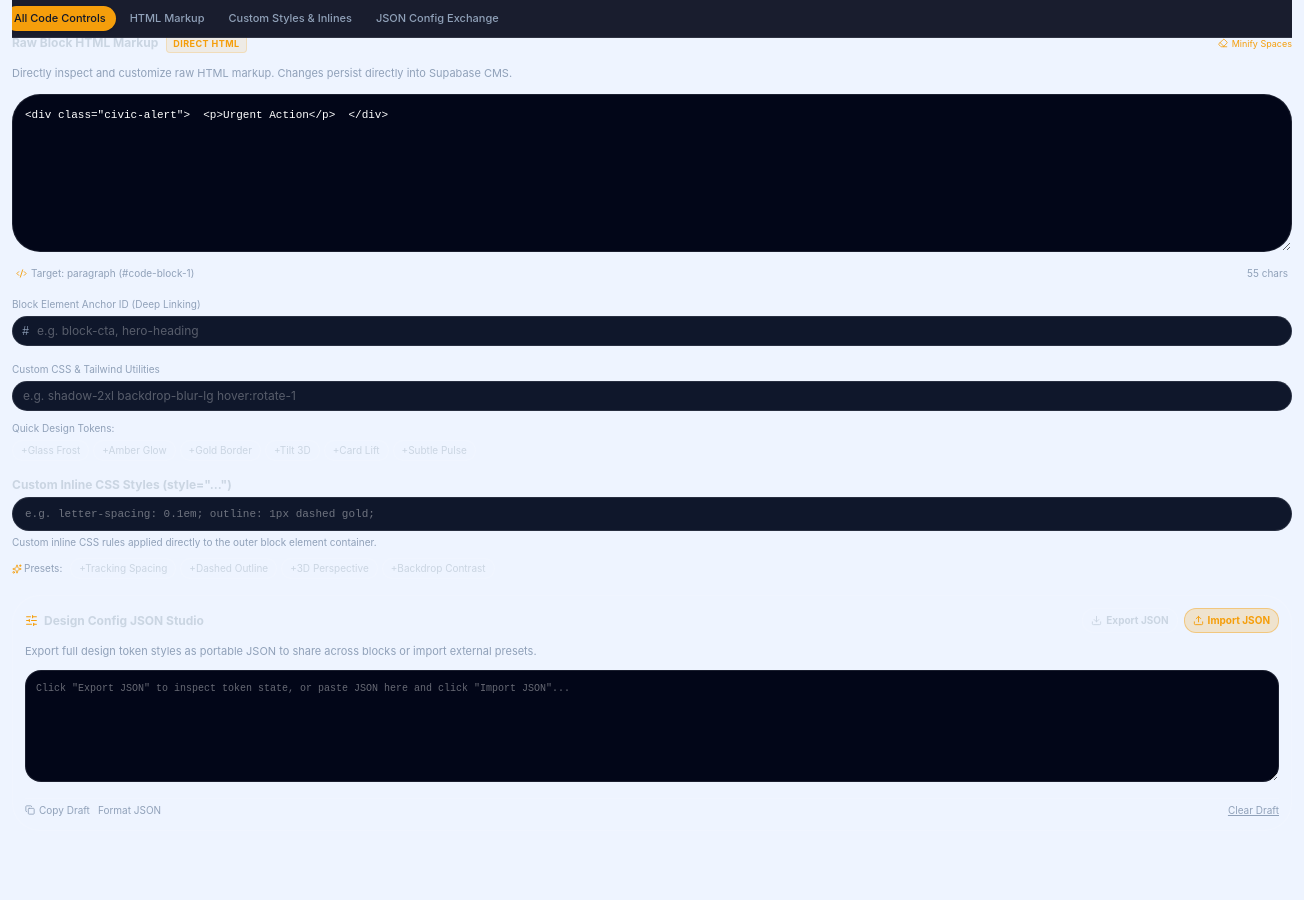
CodeStudio and Sub-Studios › supports sticky sub-tab filtering in CodeStudio
Click the button "HTML Markup". click: (167,18)
box: [120,6,214,30]
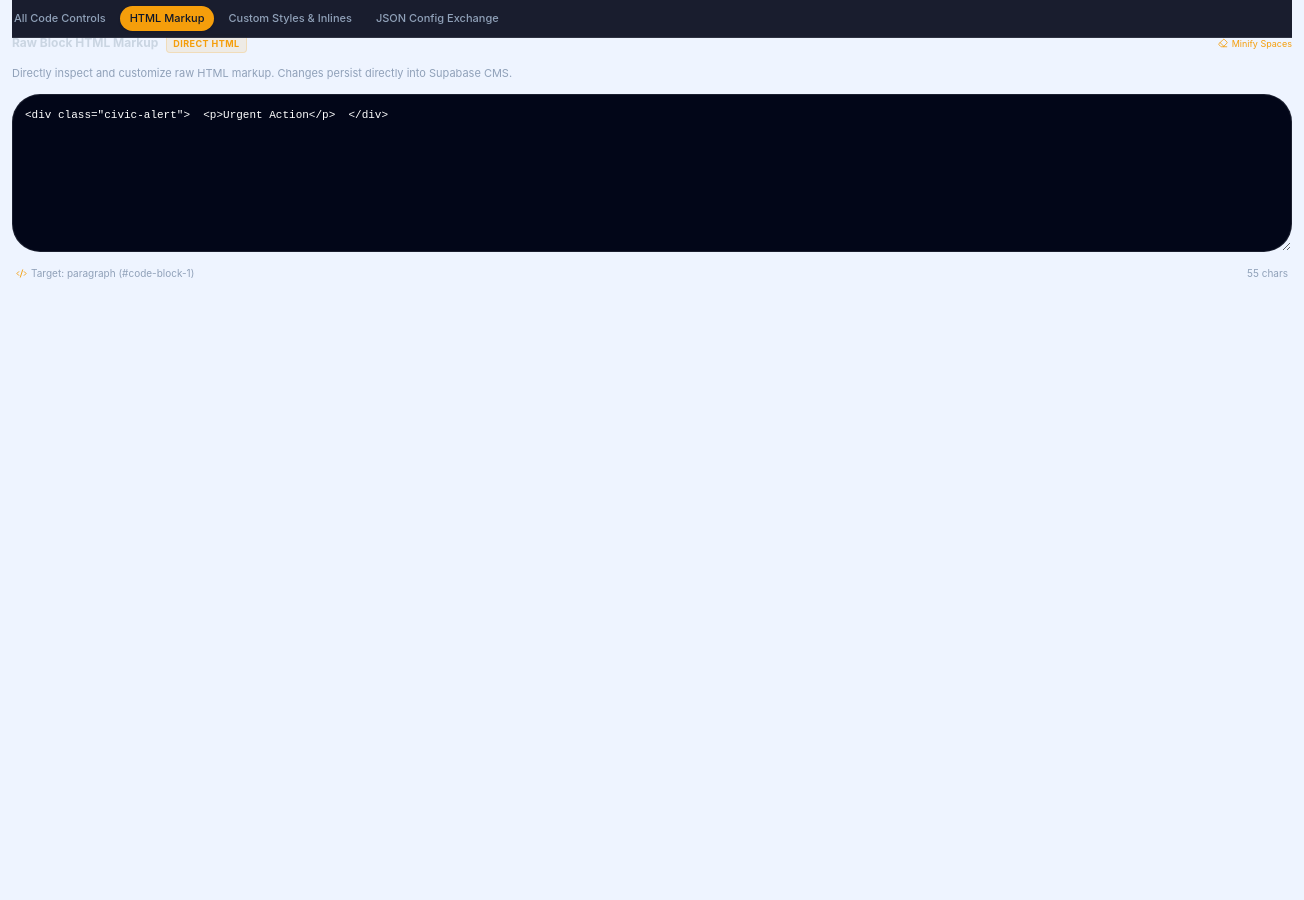
Expected: the text "Raw Block HTML Markup" is shown, [12,35,158,51]
Expected: the text "Design Config JSON Studio" is gone
Click the button "JSON Config Exchange". click: (437,18)
box: [366,6,509,30]
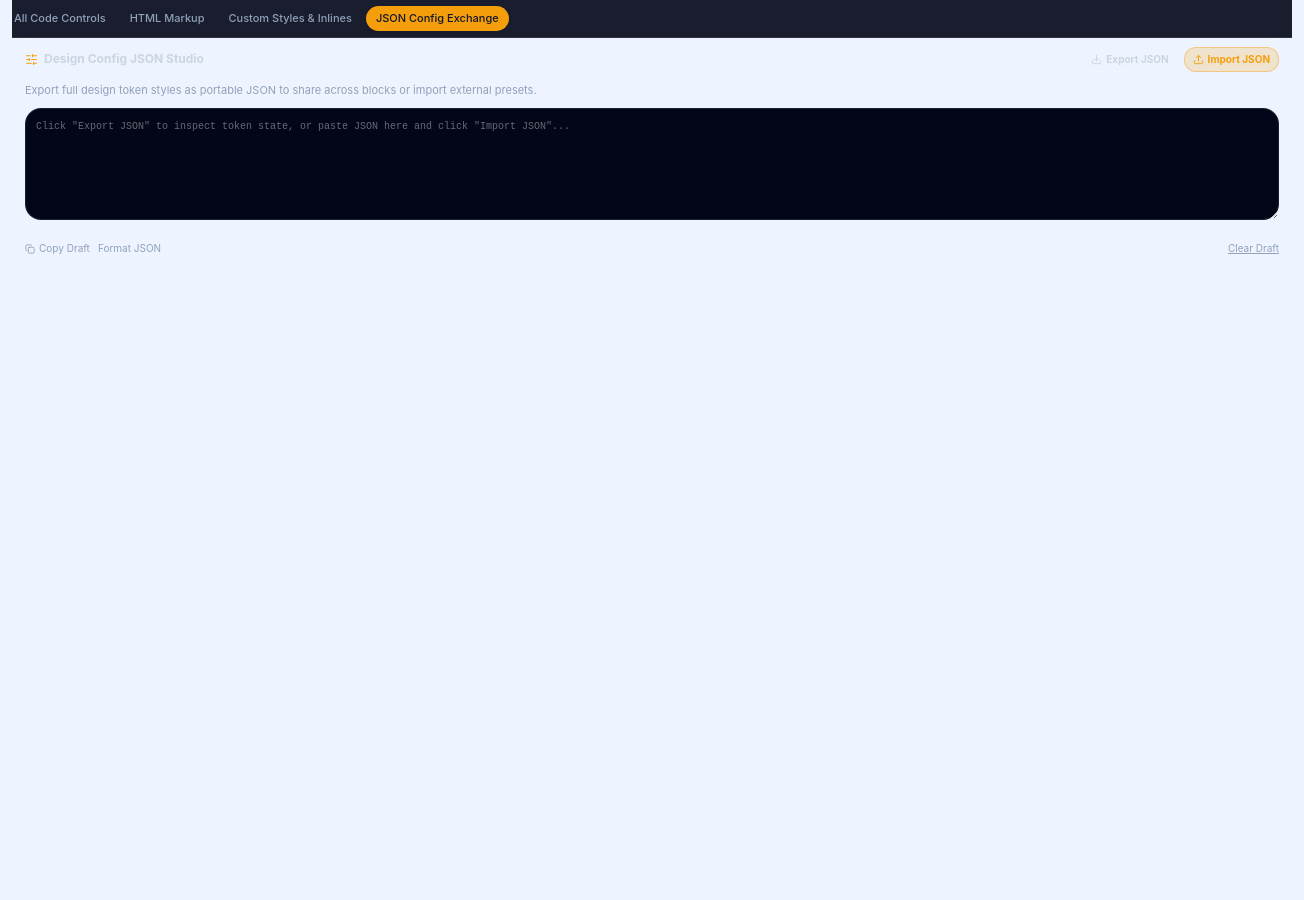
Expected: the text "Design Config JSON Studio" is shown, [44,51,204,67]
Expected: the text "Raw Block HTML Markup" is gone
